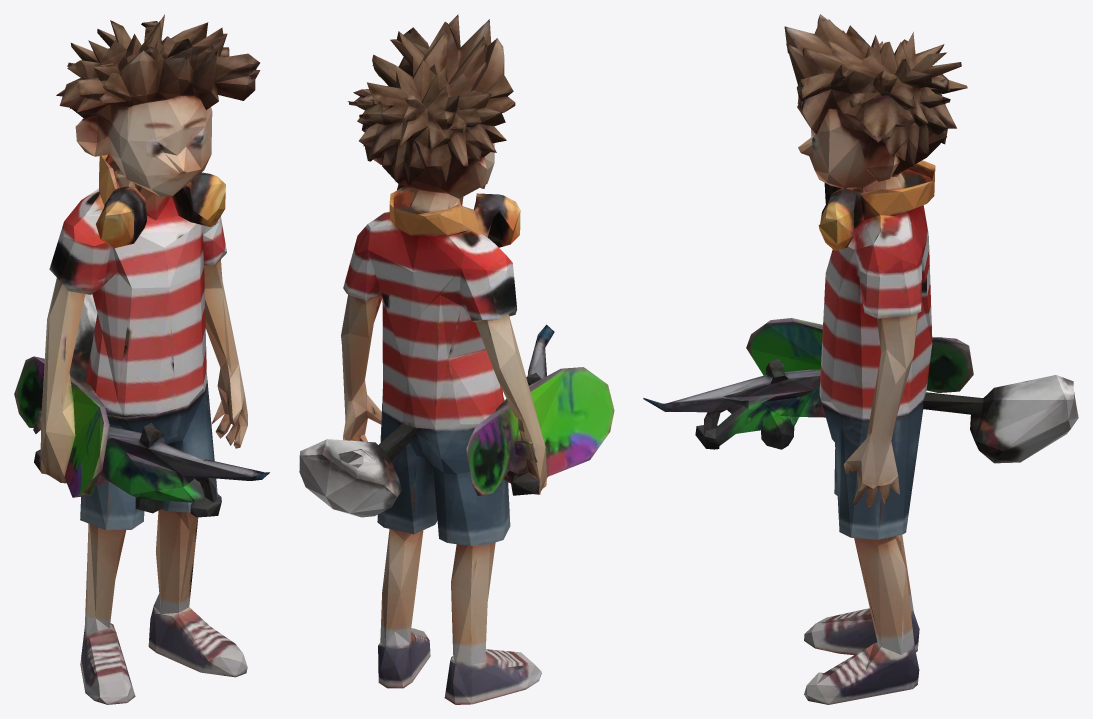
File: citizen-h.glb
3 renders of one model, left to right at view 1: azimuth 30°, elevation 25°; view 2: azimuth 150°, elevation 25°; view 3: azimuth 270°, elevation 25°, orthographic.
Visible parts, largest first — view 1: geometry_0; view 2: geometry_0; view 3: geometry_0.
Part boxes in pixels (x1,y1,x2,y2): geometry_0: (14,14,269,704); geometry_0: (299,14,614,704); geometry_0: (643,14,1078,704).
Bounding box in the file's own units: 0.3465 × 0.9982 × 0.6145.
Materials: 1 (1 with a texture image).
